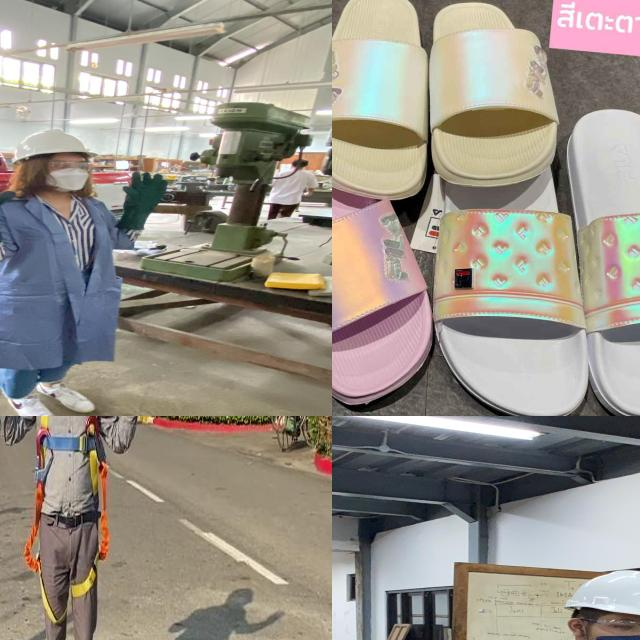Harness: (24, 416, 109, 624)
Sandals: (332, 0, 570, 204), (332, 112, 447, 416)
face_mask: (40, 156, 94, 194), (583, 612, 640, 640)
glasses: (581, 611, 640, 639), (43, 158, 95, 173)
hand_glove: (118, 170, 174, 205), (0, 171, 21, 216)
head_helmet: (559, 567, 640, 619), (9, 127, 94, 164)
person: (0, 127, 179, 416), (438, 562, 640, 640)
shoes: (23, 374, 102, 415), (0, 380, 64, 416)
